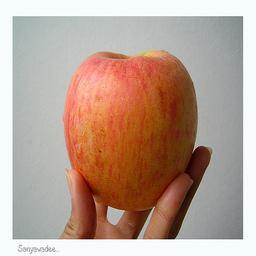apple: (63, 49, 198, 210)
